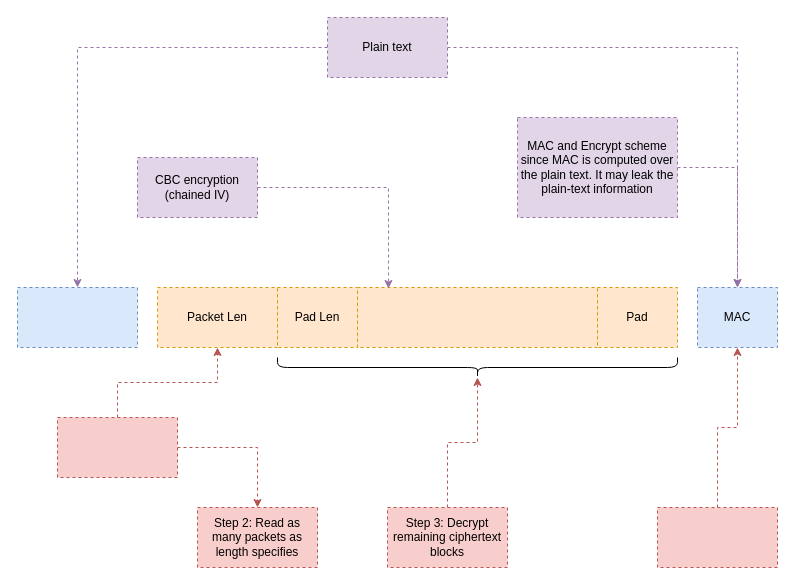
This 795x585 diagram has some shape labels left out. The shapes that lost their labels are listed below. From the top down, each one's centre as x and y in pixels, then its label:
(77,317): Seq. number
(477,317): Payload
(117,447): Step 1: Decrypt packet length field only
(717,537): Step 4: Check MAC tag and send error response if invalid
